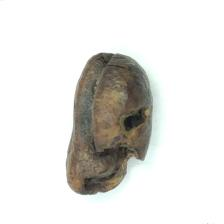NG: (67, 52, 151, 195)
